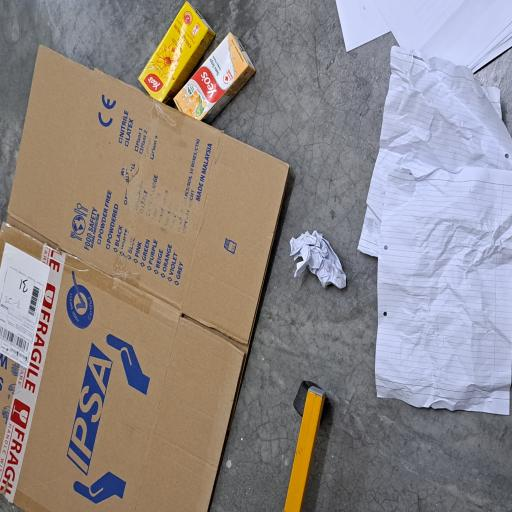cardboard: (0, 0, 350, 393)
drink carton: (308, 184, 384, 288), (292, 231, 360, 341)
paper: (327, 447, 384, 512), (167, 385, 212, 461)
